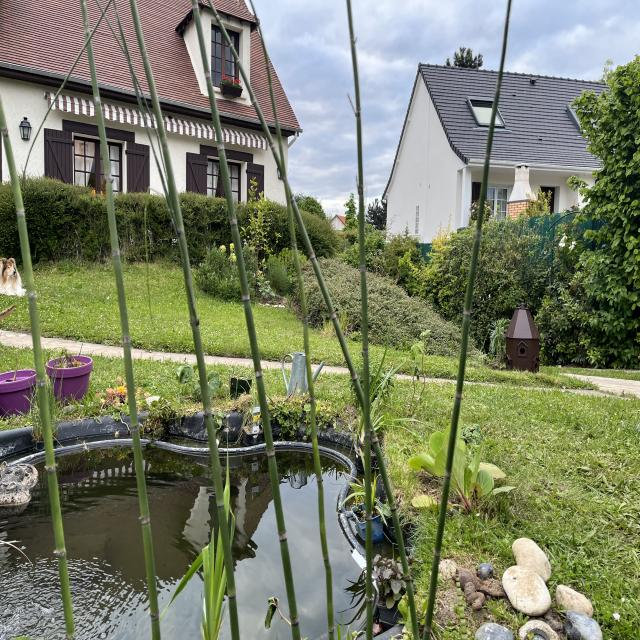Dog: (0, 246, 29, 309)
